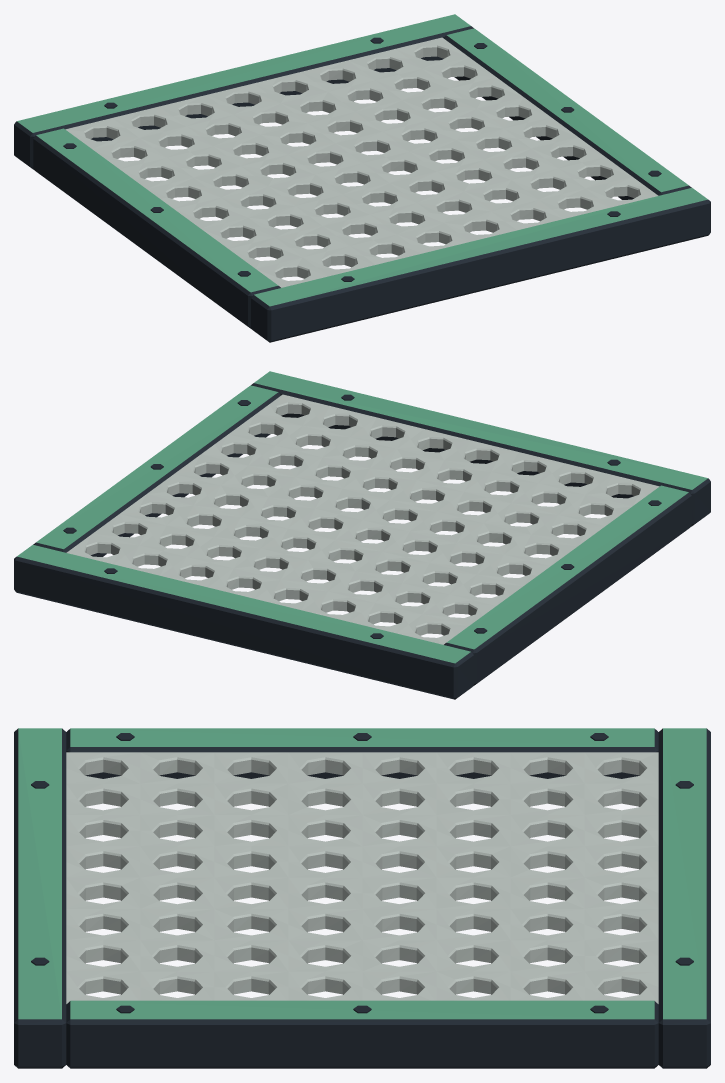
File: perforated_deck.glb
The picture shows the model from 3 angles, top to bottom: view 1: azimuth 30°, elevation 25°; view 2: azimuth 150°, elevation 25°; view 3: azimuth 270°, elevation 25°; orthographic projection. The views are drawn at different scales.
Parts seen in each view (by area): view 1: perforated_deck; view 2: perforated_deck; view 3: perforated_deck.
Part boxes in pixels (<box>): perforated_deck: <box>14,14,710,342</box>; perforated_deck: <box>14,371,710,699</box>; perforated_deck: <box>14,728,710,1068</box>.
Size of the model in its own units: 1 by 0.08 by 1.
